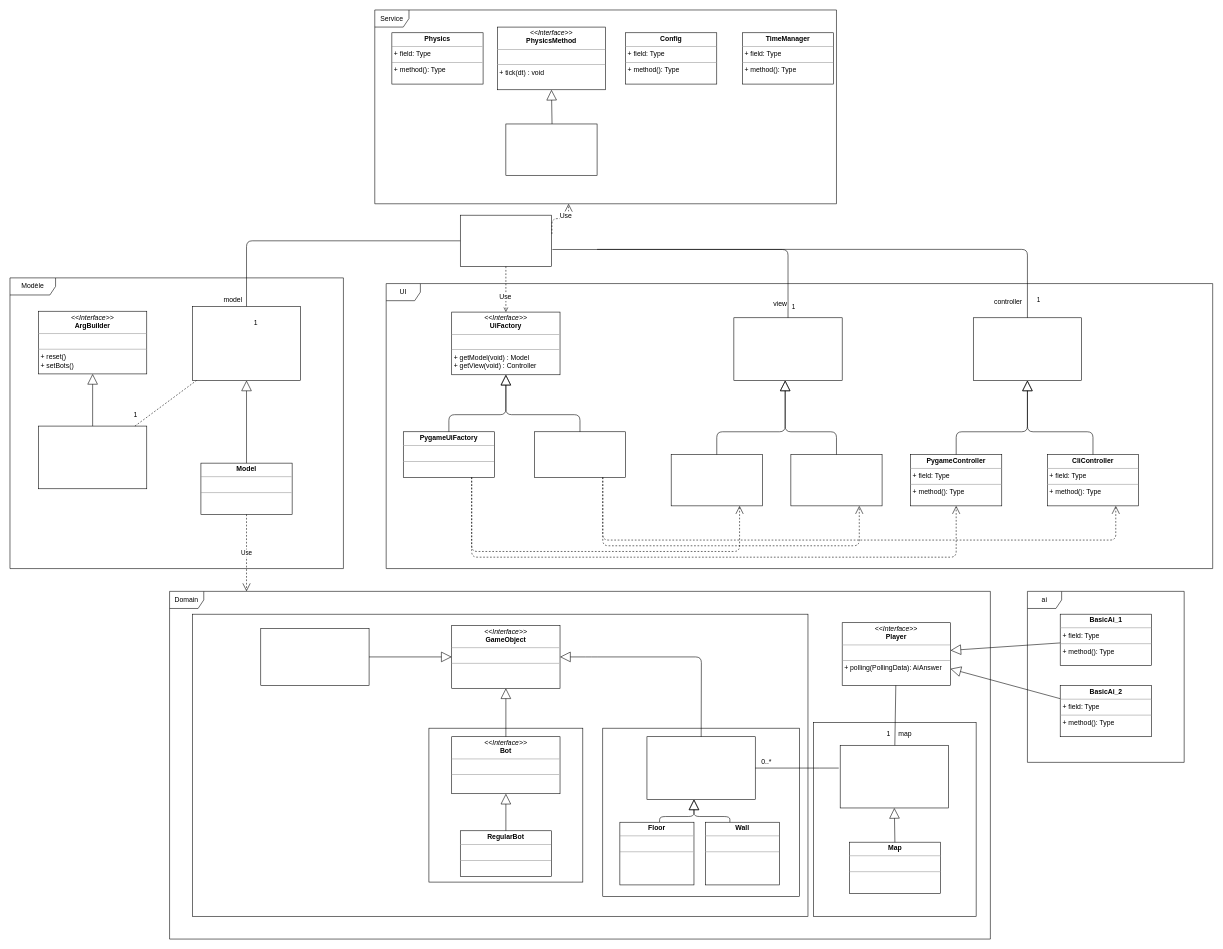
Image size: 1223x949. Some labels were removed from this diagram. The centre of each missing label's shape, as x and y in pixels:
<<Interface>> Block: the point at 700,767
<<Interface>> Controller + tick(dt) : void: the point at 1027,348
<<Interface>> Map + getCell(x : int, y : int): the point at 894,776
<<Interface>> Model + tick(dt) : void + register(Ai) : void: the point at 246,343
<<Interface>> View + tick(dt) : void: the point at 787,348
ArgBuilderType + getResult() : Type: the point at 92,457
CliUiFactory: the point at 580,454
Flag: the point at 314,656
Game + gameLoop() : void: the point at 505,240
PygameView + field: Type + method(): Type: the point at 716,480
PythonPhysics + field: Type + method(): Type: the point at 551,149
View (pygame) + field: Type + method(): Type: the point at 836,480
